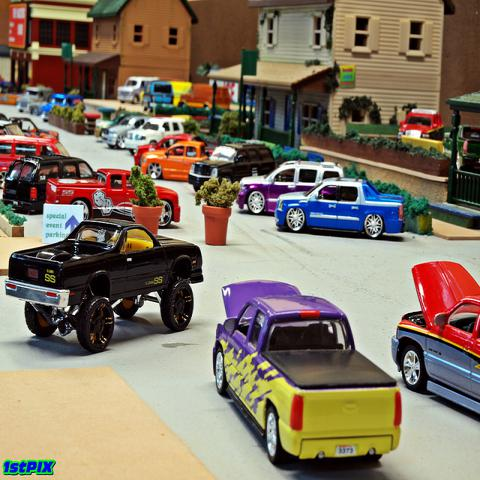car: (2, 156, 96, 215), (188, 140, 278, 189), (1, 136, 71, 189), (125, 116, 186, 154), (134, 133, 204, 165), (102, 117, 152, 148)
truck: (211, 282, 403, 467), (4, 216, 205, 355), (392, 260, 480, 415), (44, 168, 181, 229), (274, 178, 406, 238), (236, 162, 343, 212), (141, 141, 209, 181), (143, 81, 174, 113)
